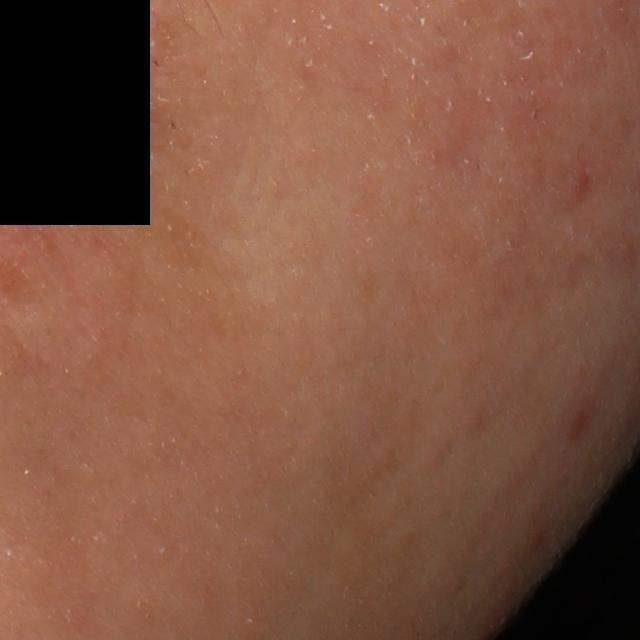papule: (563, 396, 601, 436)
